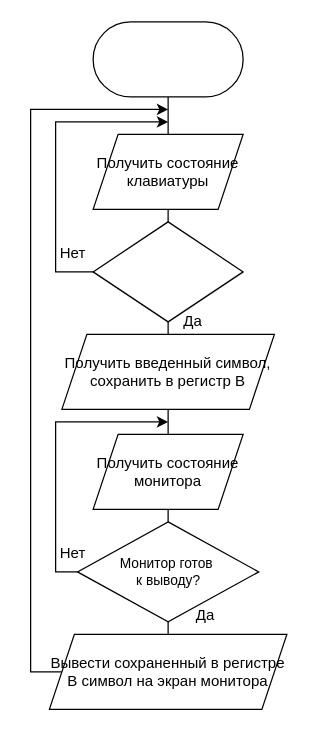
Image size: 309x731. Some labels were removed from this diagram. Here are the shapes that lost their labels. From the top down, the box of each, then its label:
(92, 21, 243, 97): Начало
(92, 221, 243, 322): Есть символ для ввода?
